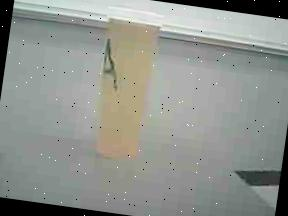Bottle A: (95, 7, 161, 158)
